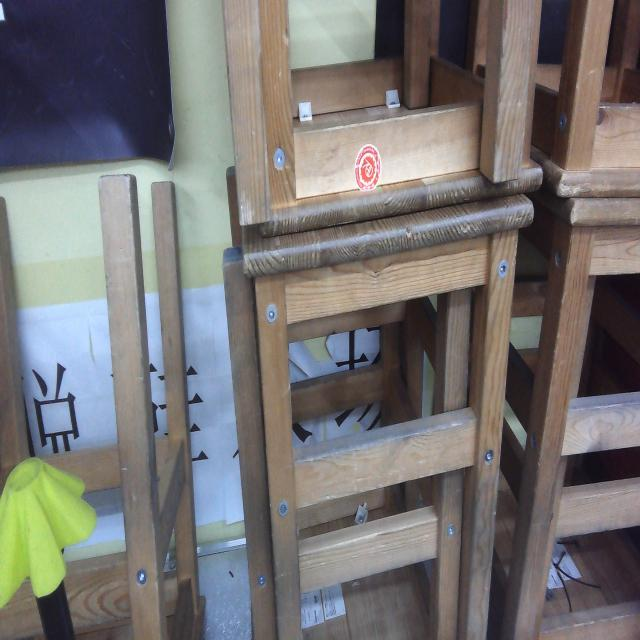Yellow-Stake-Head: (1, 457, 98, 609)
